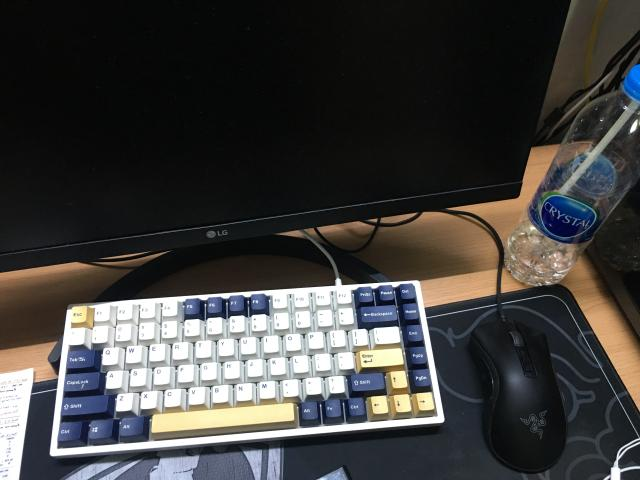Mouse: (469, 320, 566, 472)
bottle: (505, 65, 640, 285)
paper: (0, 369, 34, 480)
